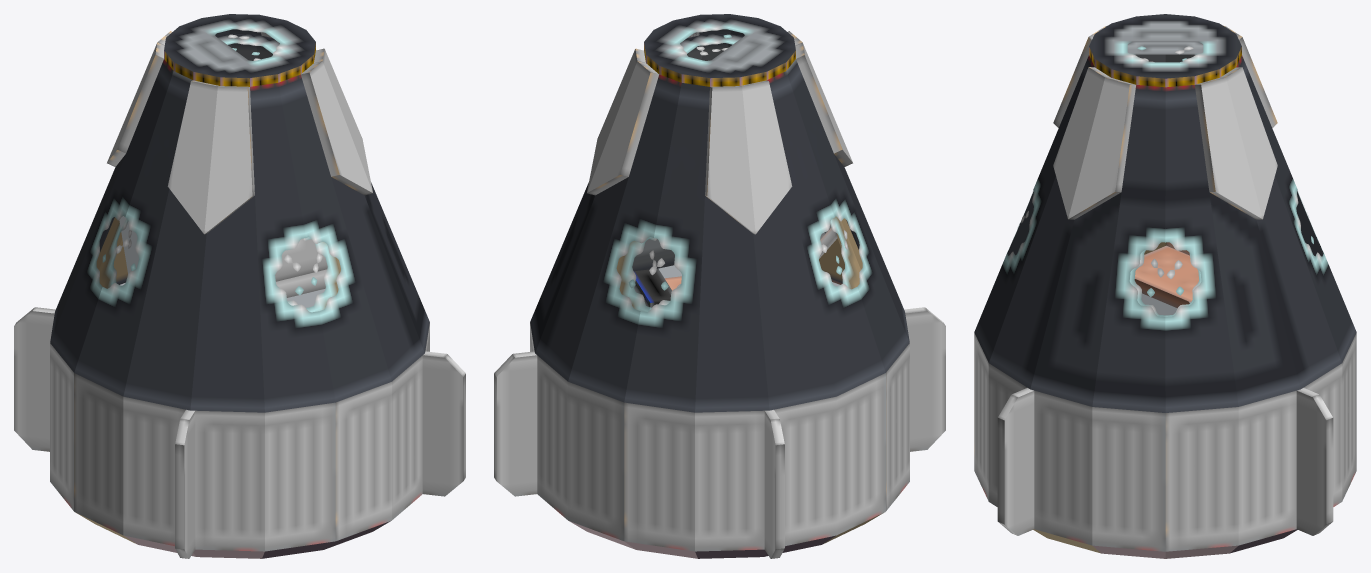
The model's file is rp_drop_pod.obj.
3 renders of one model, left to right at view 1: azimuth 30°, elevation 25°; view 2: azimuth 150°, elevation 25°; view 3: azimuth 270°, elevation 25°, orthographic.
Parts seen in each view (by area): view 1: DropPod, Airbrake3, Airbrake0, Door, Airbrake2, HeatShield; view 2: DropPod, Airbrake2, Airbrake1, Door, Airbrake3, HeatShield; view 3: DropPod, Door, Airbrake0, Airbrake1, HeatShield, Airbrake2, Airbrake3.
Part boxes in pixels (x1=…): DropPod: x1=14, y1=14, x2=465, y2=558; Airbrake3: x1=167, y1=80, x2=254, y2=234; Airbrake0: x1=301, y1=48, x2=372, y2=195; Door: x1=367, y1=182, x2=421, y2=333; Airbrake2: x1=107, y1=31, x2=171, y2=166; HeatShield: x1=76, y1=513, x2=390, y2=558; DropPod: x1=494, y1=14, x2=945, y2=558; Airbrake2: x1=705, y1=80, x2=792, y2=234; Airbrake1: x1=587, y1=48, x2=658, y2=195; Door: x1=538, y1=182, x2=673, y2=333; Airbrake3: x1=788, y1=31, x2=852, y2=166; HeatShield: x1=569, y1=513, x2=883, y2=558; DropPod: x1=974, y1=14, x2=1356, y2=551; Door: x1=1035, y1=192, x2=1295, y2=391; Airbrake0: x1=1053, y1=67, x2=1135, y2=219; Airbrake1: x1=1195, y1=67, x2=1277, y2=219; HeatShield: x1=1033, y1=529, x2=1297, y2=558; Airbrake2: x1=1223, y1=25, x2=1277, y2=127; Airbrake3: x1=1053, y1=25, x2=1107, y2=127.
Size of the model in its own units: 2.5 by 3.31 by 2.5.
